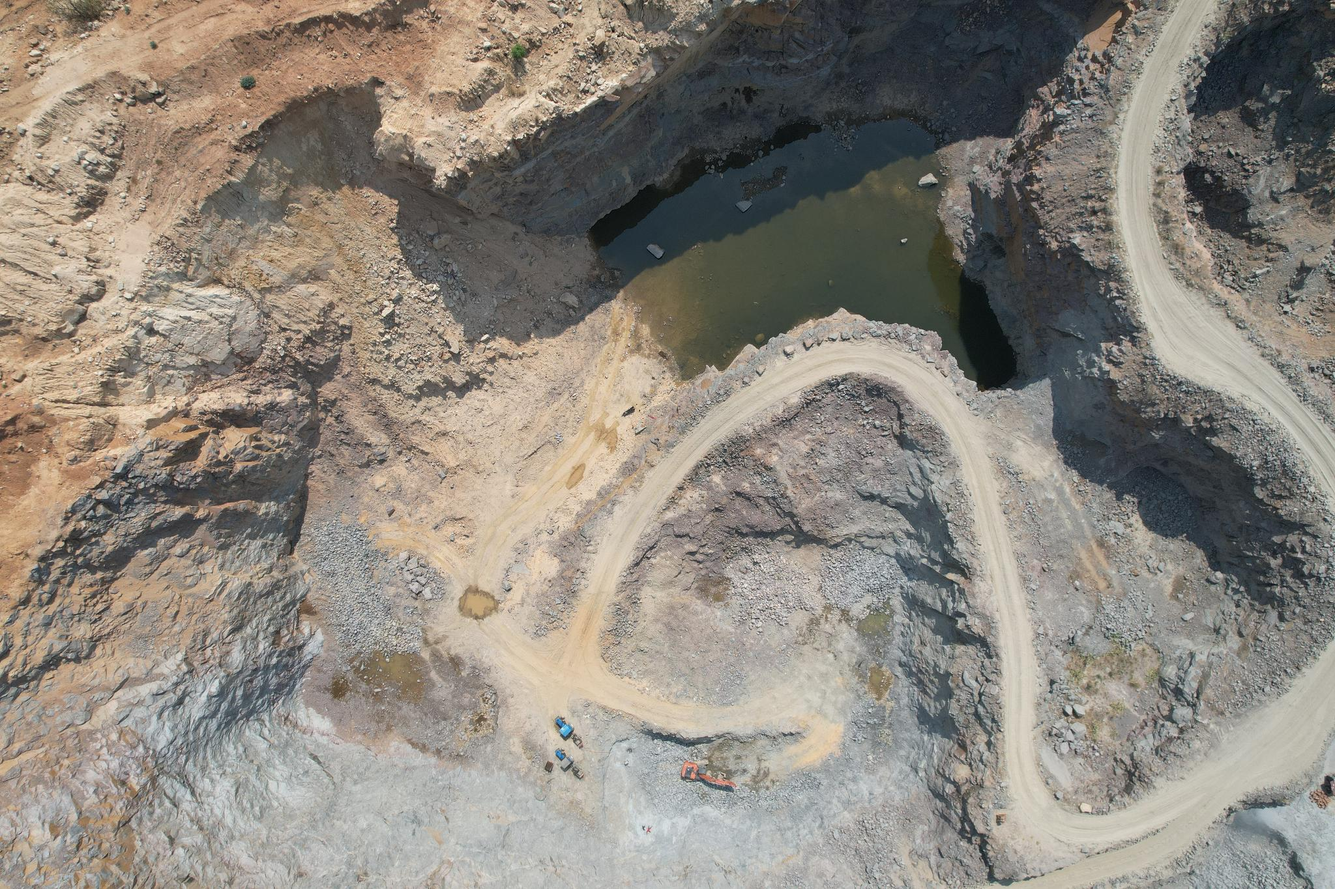benches: (478, 333, 1335, 889), (1113, 0, 1335, 515), (458, 432, 593, 583)
excavator: (666, 746, 752, 821)
